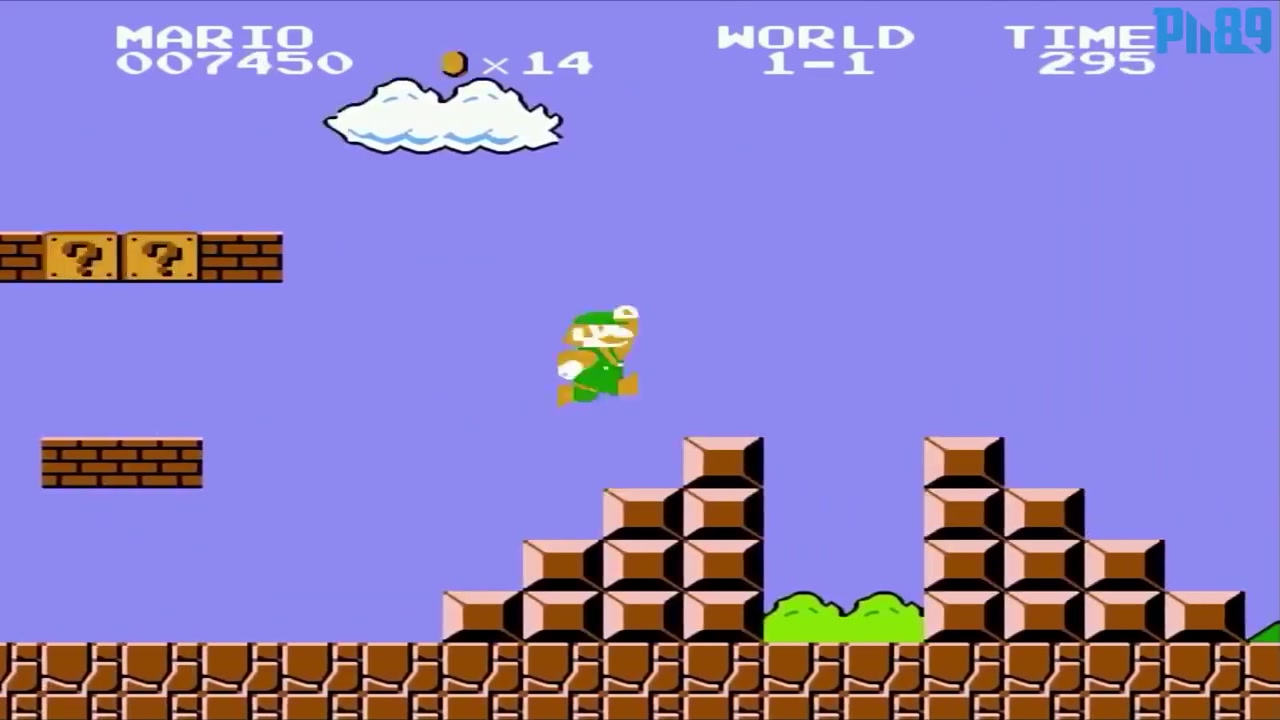mario: (539, 292, 651, 412)
